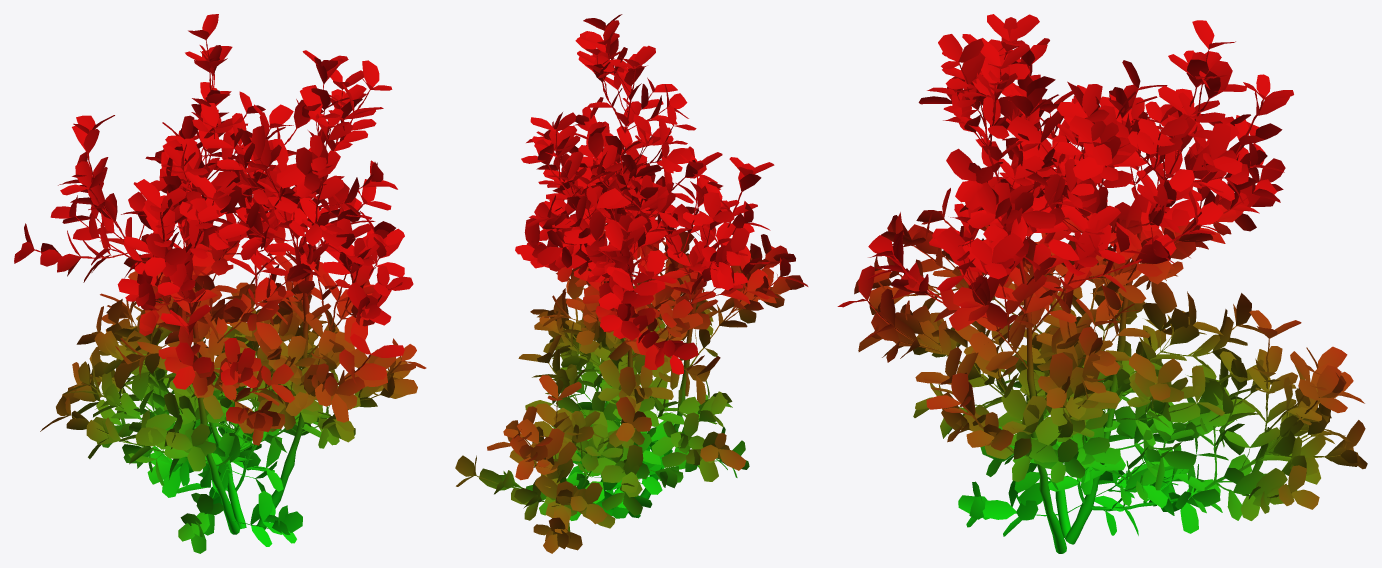
File: Var9_LOD2.fbx
3 renders of one model, left to right at view 1: azimuth 30°, elevation 25°; view 2: azimuth 150°, elevation 25°; view 3: azimuth 270°, elevation 25°, orthographic. The views are drawn at different scales.
Parts seen in each view (by area): view 1: _qcca_Var9_LOD2; view 2: _qcca_Var9_LOD2; view 3: _qcca_Var9_LOD2.
Part boxes in pixels (x1,y1,x2,y2): _qcca_Var9_LOD2: (14, 14, 426, 553); _qcca_Var9_LOD2: (455, 14, 808, 553); _qcca_Var9_LOD2: (837, 14, 1367, 553).
Bounding box in the file's own units: 30.26 × 46.69 × 40.24.
